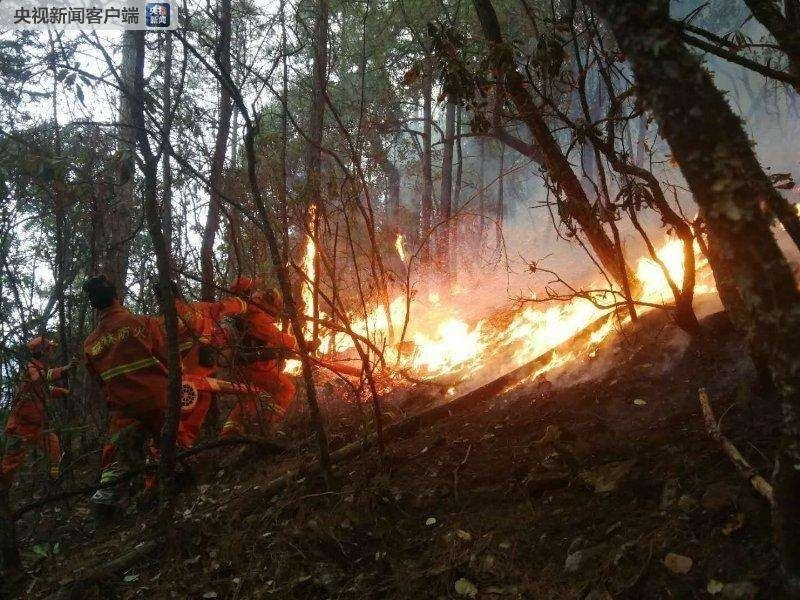fire: (286, 224, 717, 387)
